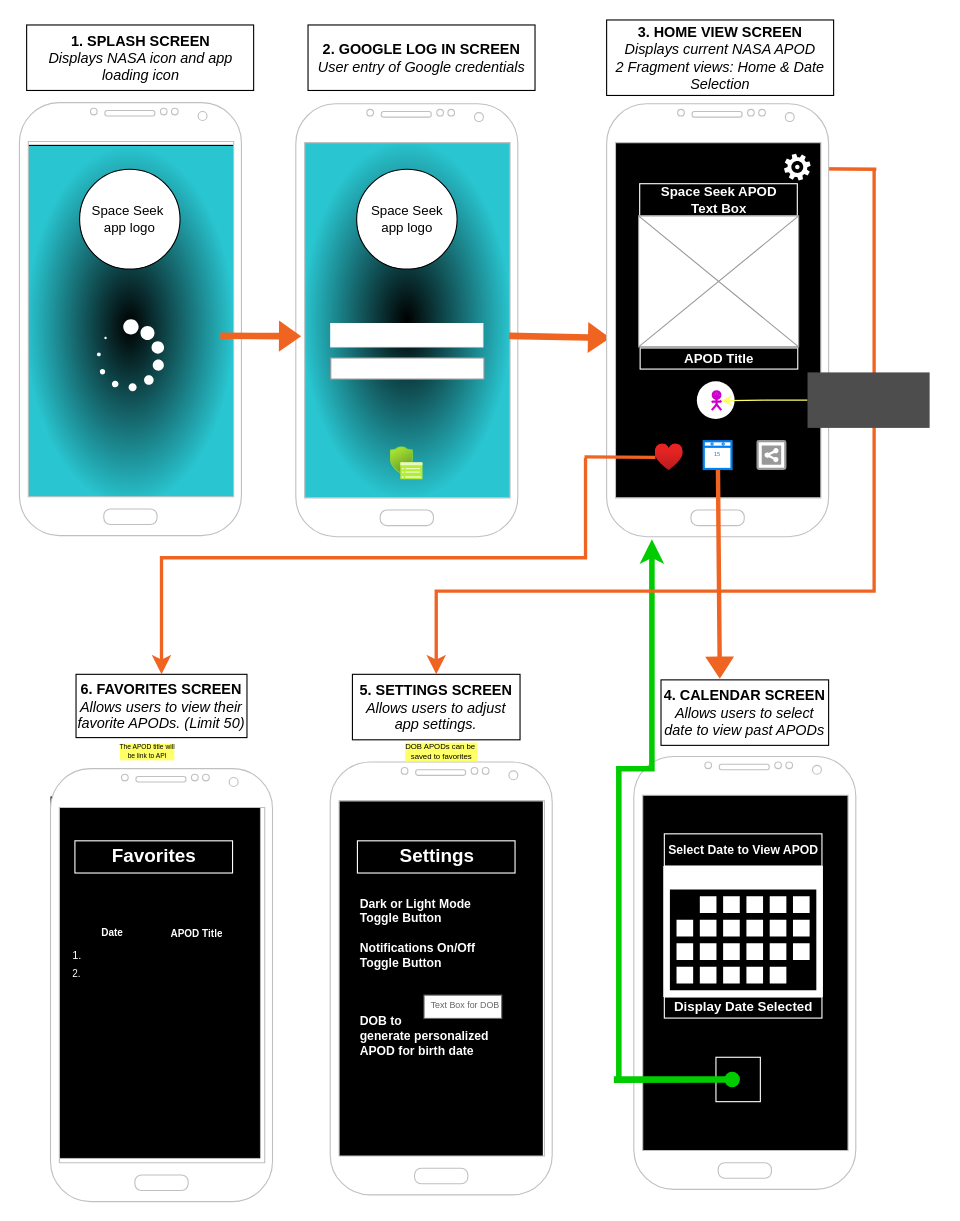
This 960x1221 diagram has some shape labels left out. Here are the shapes that lost their labels. From the top down, the box of each, then its label:
(330, 322, 483, 347): Google email text entry field
(330, 357, 484, 379): ******** Password
(807, 372, 929, 427): The little guy in round buttton is for random APOD
(715, 1056, 760, 1102): Done
